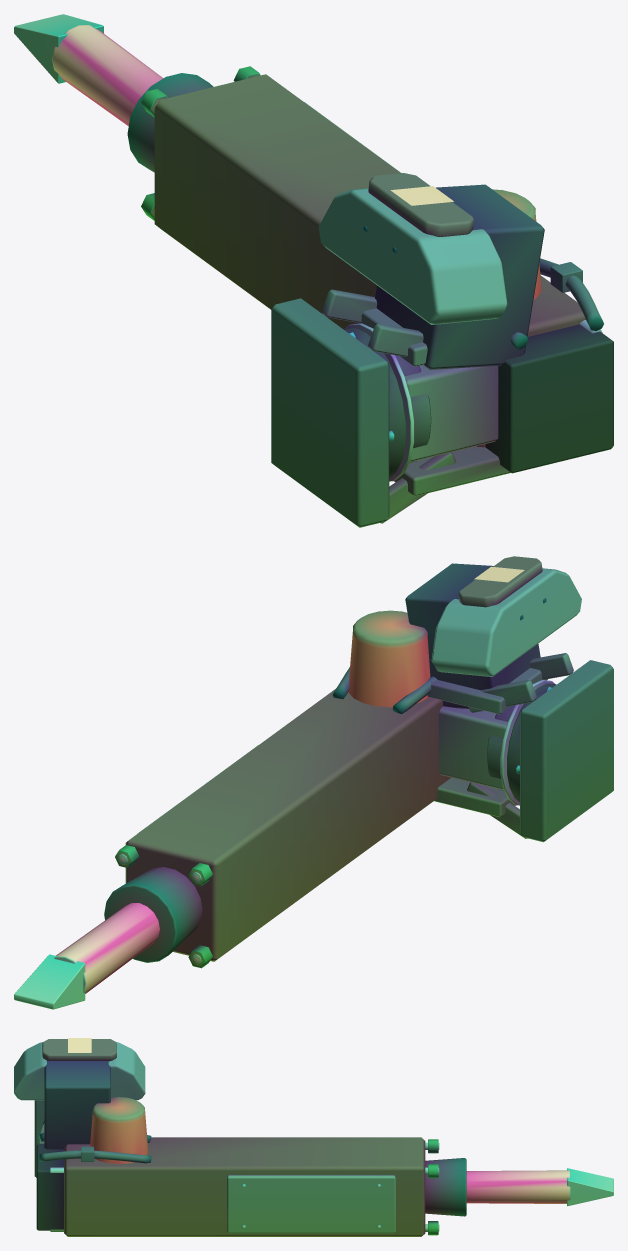
The model's file is arm_th60.glb.
3 views of the same model, one above another, from view 1: azimuth 30°, elevation 25°; view 2: azimuth 150°, elevation 25°; view 3: azimuth 270°, elevation 25° (orthographic). The views are drawn at different scales.
Parts seen in each view (by area): view 1: Body__armor_oxide, Body__gunmetal, Body__armor, Body__rubber, Body__dark, Body__chrome, Body__armor_sub, Body__brass, Body__decal; view 2: Body__armor_oxide, Body__gunmetal, Body__armor, Body__chrome, Body__copper, Body__armor_sub, Body__dark, Body__brass; view 3: Body__armor_oxide, Body__armor, Body__chrome, Body__dark, Body__gunmetal, Body__copper, Body__rubber, Body__brass, Body__decal.
Boxes of the visible parts, <box> form: Body__armor_oxide: <box>154,74,585,447</box>; Body__gunmetal: <box>127,73,603,527</box>; Body__armor: <box>304,102,507,462</box>; Body__rubber: <box>485,324,613,473</box>; Body__dark: <box>344,184,544,477</box>; Body__chrome: <box>14,14,602,481</box>; Body__armor_sub: <box>321,289,510,523</box>; Body__brass: <box>141,66,260,220</box>; Body__decal: <box>390,186,453,205</box>; Body__armor_oxide: <box>125,556,542,961</box>; Body__gunmetal: <box>104,660,613,962</box>; Body__armor: <box>137,568,581,833</box>; Body__chrome: <box>14,680,555,1009</box>; Body__copper: <box>348,610,430,707</box>; Body__armor_sub: <box>427,653,573,838</box>; Body__dark: <box>405,563,556,802</box>; Body__brass: <box>115,845,212,968</box>; Body__armor_oxide: <box>42,1039,425,1236</box>; Body__armor: <box>14,1042,395,1233</box>; Body__chrome: <box>38,1123,613,1231</box>; Body__dark: <box>42,1060,110,1149</box>; Body__gunmetal: <box>34,1100,466,1216</box>; Body__copper: <box>90,1097,147,1163</box>; Body__rubber: <box>36,1143,63,1230</box>; Body__brass: <box>428,1139,438,1235</box>; Body__decal: <box>68,1038,91,1052</box>.
Size of the model in its own units: 0.905 by 0.9269 by 3.05.
